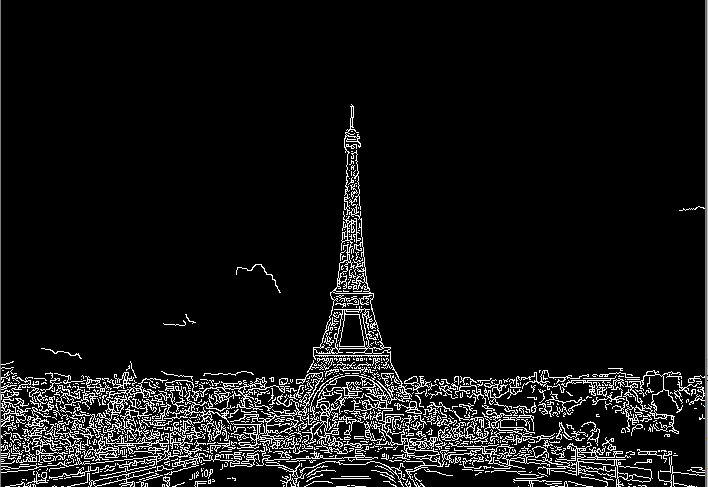eiffel tower: (293, 89, 415, 415)
